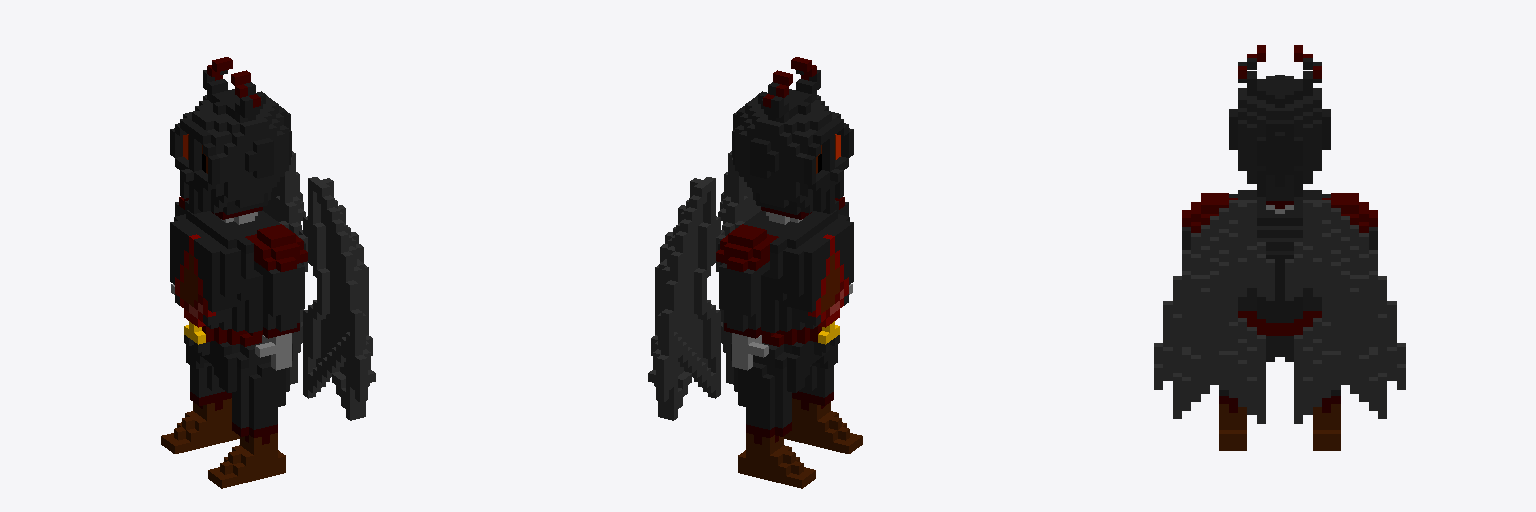
The picture shows the model from 3 angles: view 1: azimuth 30°, elevation 25°; view 2: azimuth 150°, elevation 25°; view 3: azimuth 270°, elevation 25°; orthographic projection.
Visible parts, largest first — view 1: object 1; view 2: object 1; view 3: object 1.
Boxes of the visible parts, <box> form: object 1: <box>161,57,375,488</box>; object 1: <box>648,57,862,488</box>; object 1: <box>1154,45,1405,450</box>.
Bounding box in the file's own units: 1.8 × 4.6 × 2.7.
Materials: 1 (1 with a texture image).